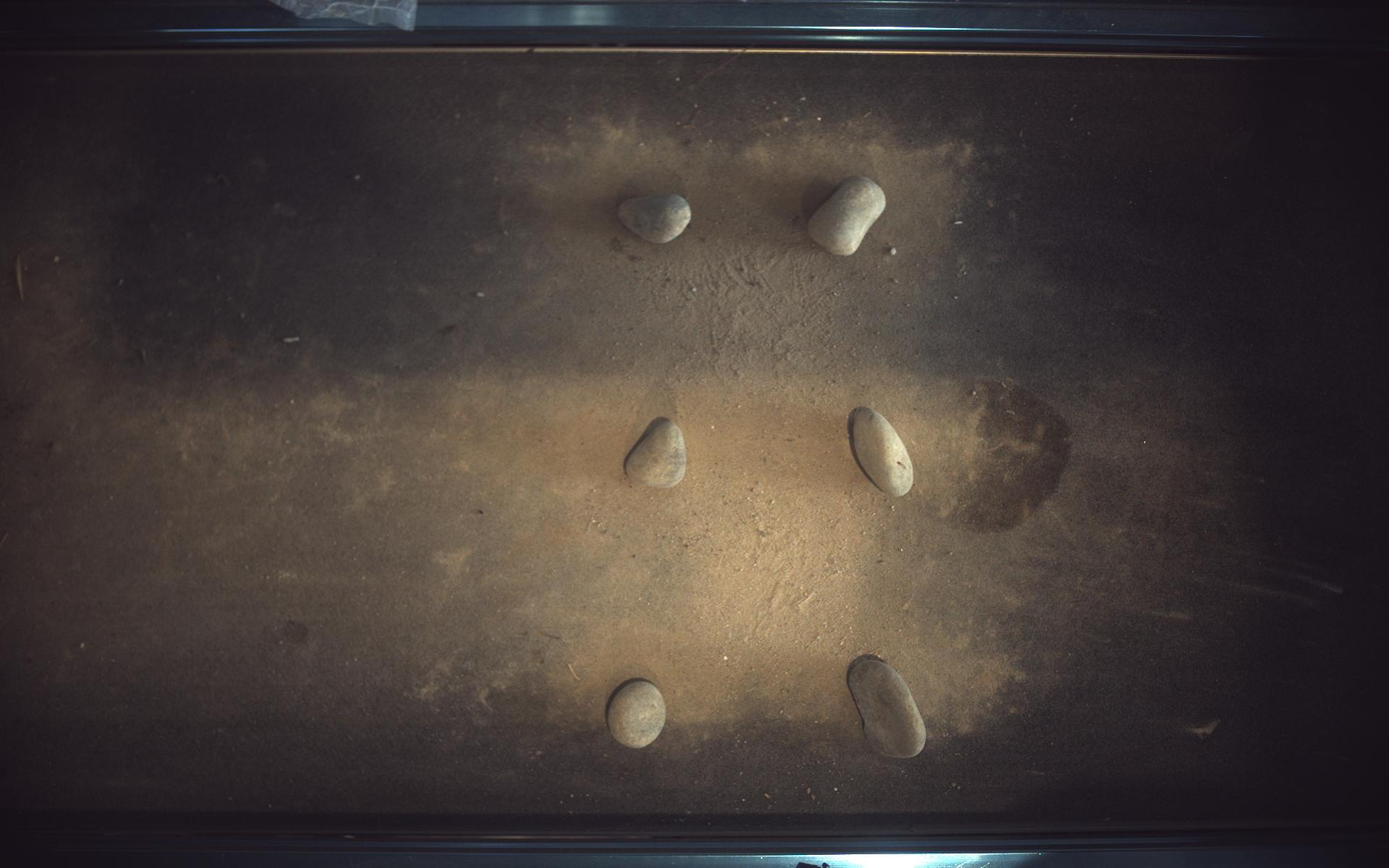stone: (849, 656, 928, 760), (809, 176, 888, 255), (852, 407, 915, 498), (625, 417, 687, 488), (608, 681, 667, 750), (619, 194, 692, 243)
